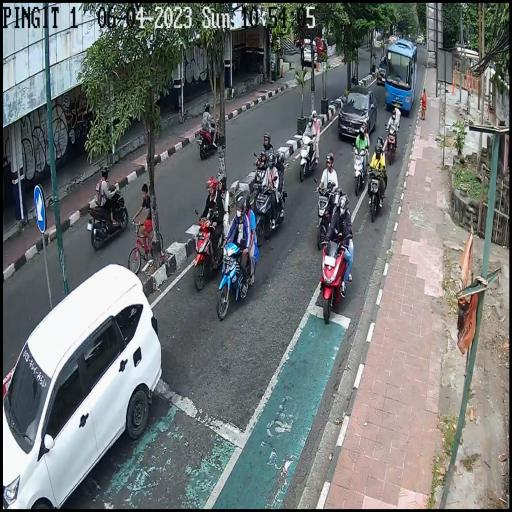mobil: (6, 245, 166, 510), (385, 38, 418, 114), (340, 84, 378, 142)
motor: (218, 233, 255, 324), (192, 207, 226, 291), (86, 183, 128, 249), (320, 231, 349, 325), (254, 182, 288, 242), (314, 178, 334, 252), (366, 160, 387, 224), (196, 117, 220, 158), (300, 130, 318, 182), (352, 142, 369, 196), (252, 159, 266, 198), (386, 123, 399, 165)
